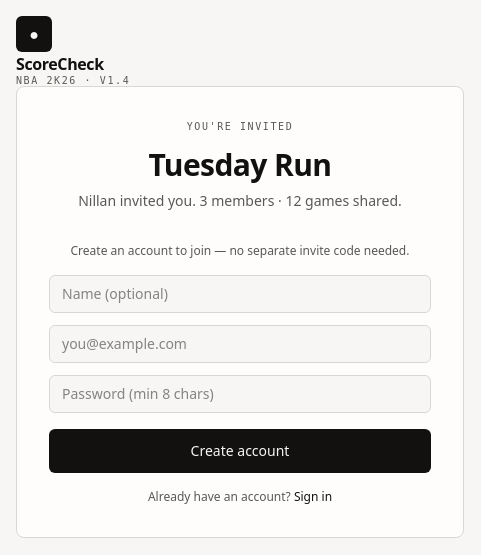
Test: a logged-out visitor › can switch back to creating an account
Step 1. Click the button "Sign in" → point(313, 497), box [294,489,332,505]
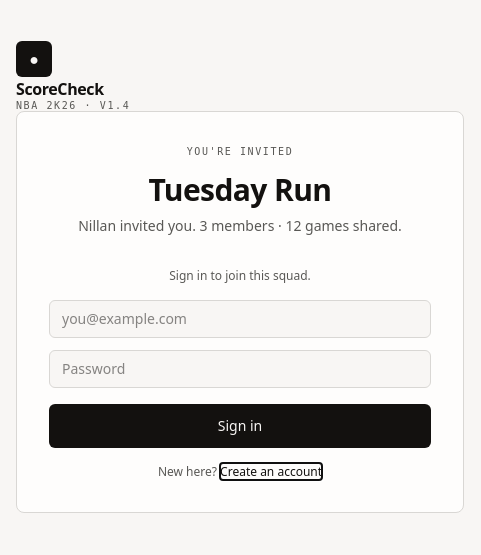
Step 2. Click the button "Create an account" → point(271, 472), box [220,464,322,480]
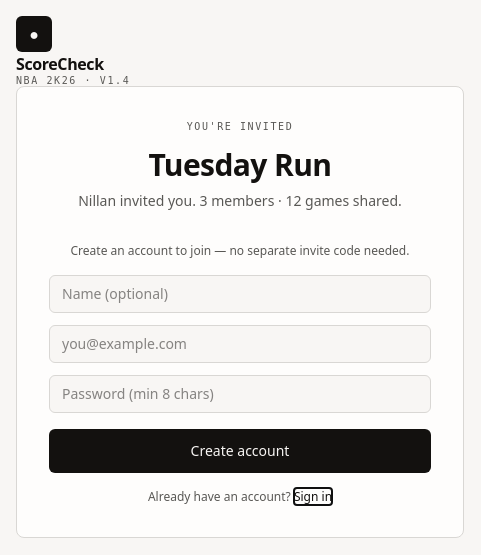
Result: the field with placeholder "Name (optional)" is shown at [49,275,431,313]
